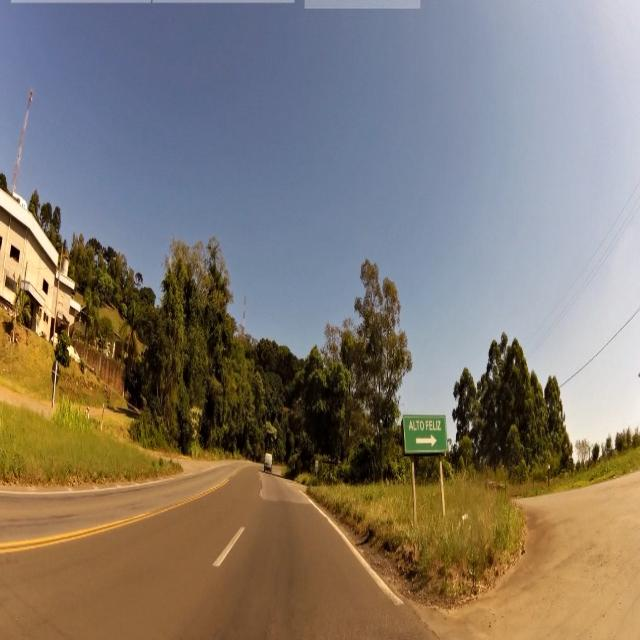I-4: (402, 414, 447, 456)
